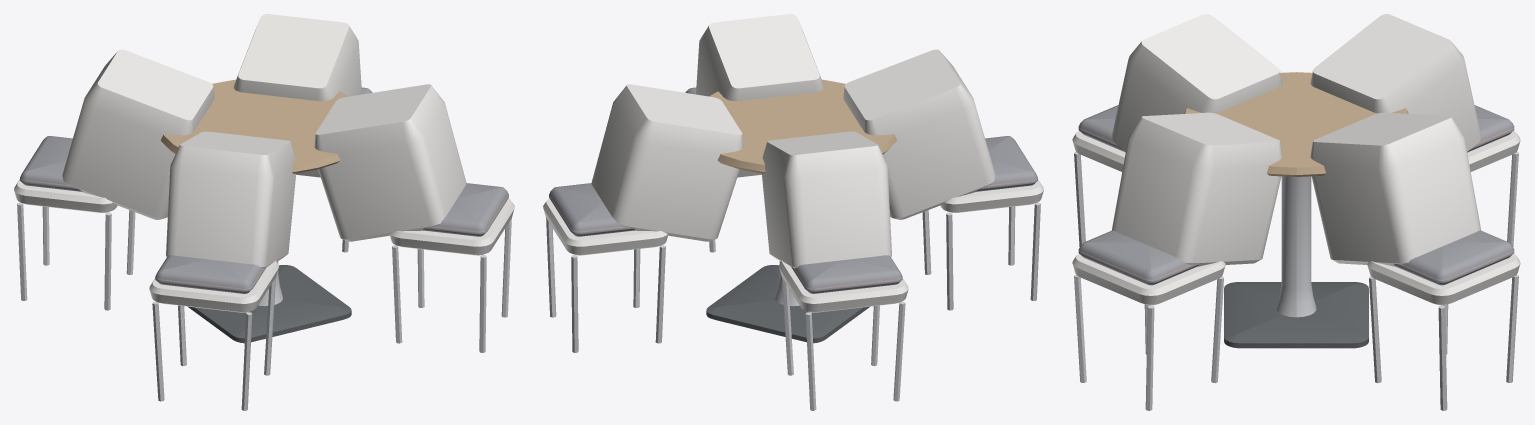
The model's file is SM_Retail_25373_FoodCourtTableSet.fbx.
3 renders of one model, left to right at view 1: azimuth 30°, elevation 25°; view 2: azimuth 150°, elevation 25°; view 3: azimuth 270°, elevation 25°, orthographic. The views are drawn at different scales.
Visible parts, largest first — view 1: food-court-table-set_3, food-court-table-set_4, food-court-table-set_1, food-court-table-set_2, food-court-table-set_0; view 2: food-court-table-set_3, food-court-table-set_4, food-court-table-set_1, food-court-table-set_2, food-court-table-set_0; view 3: food-court-table-set_3, food-court-table-set_1, food-court-table-set_4, food-court-table-set_0, food-court-table-set_2.
Part boxes in pixels (bbox=[...]): food-court-table-set_3: bbox=[14, 14, 514, 312]; food-court-table-set_4: bbox=[20, 87, 508, 293]; food-court-table-set_1: bbox=[17, 202, 511, 410]; food-court-table-set_2: bbox=[161, 79, 348, 173]; food-court-table-set_0: bbox=[188, 265, 351, 343]; food-court-table-set_3: bbox=[543, 14, 1043, 312]; food-court-table-set_4: bbox=[549, 87, 1037, 293]; food-court-table-set_1: bbox=[546, 202, 1040, 410]; food-court-table-set_2: bbox=[709, 79, 896, 173]; food-court-table-set_0: bbox=[706, 265, 869, 343]; food-court-table-set_3: bbox=[1072, 14, 1520, 305]; food-court-table-set_1: bbox=[1074, 152, 1518, 410]; food-court-table-set_4: bbox=[1078, 105, 1514, 285]; food-court-table-set_0: bbox=[1224, 282, 1368, 348]; food-court-table-set_2: bbox=[1184, 72, 1408, 176].
Bounding box in the file's own units: 155 × 155 × 91.61.
